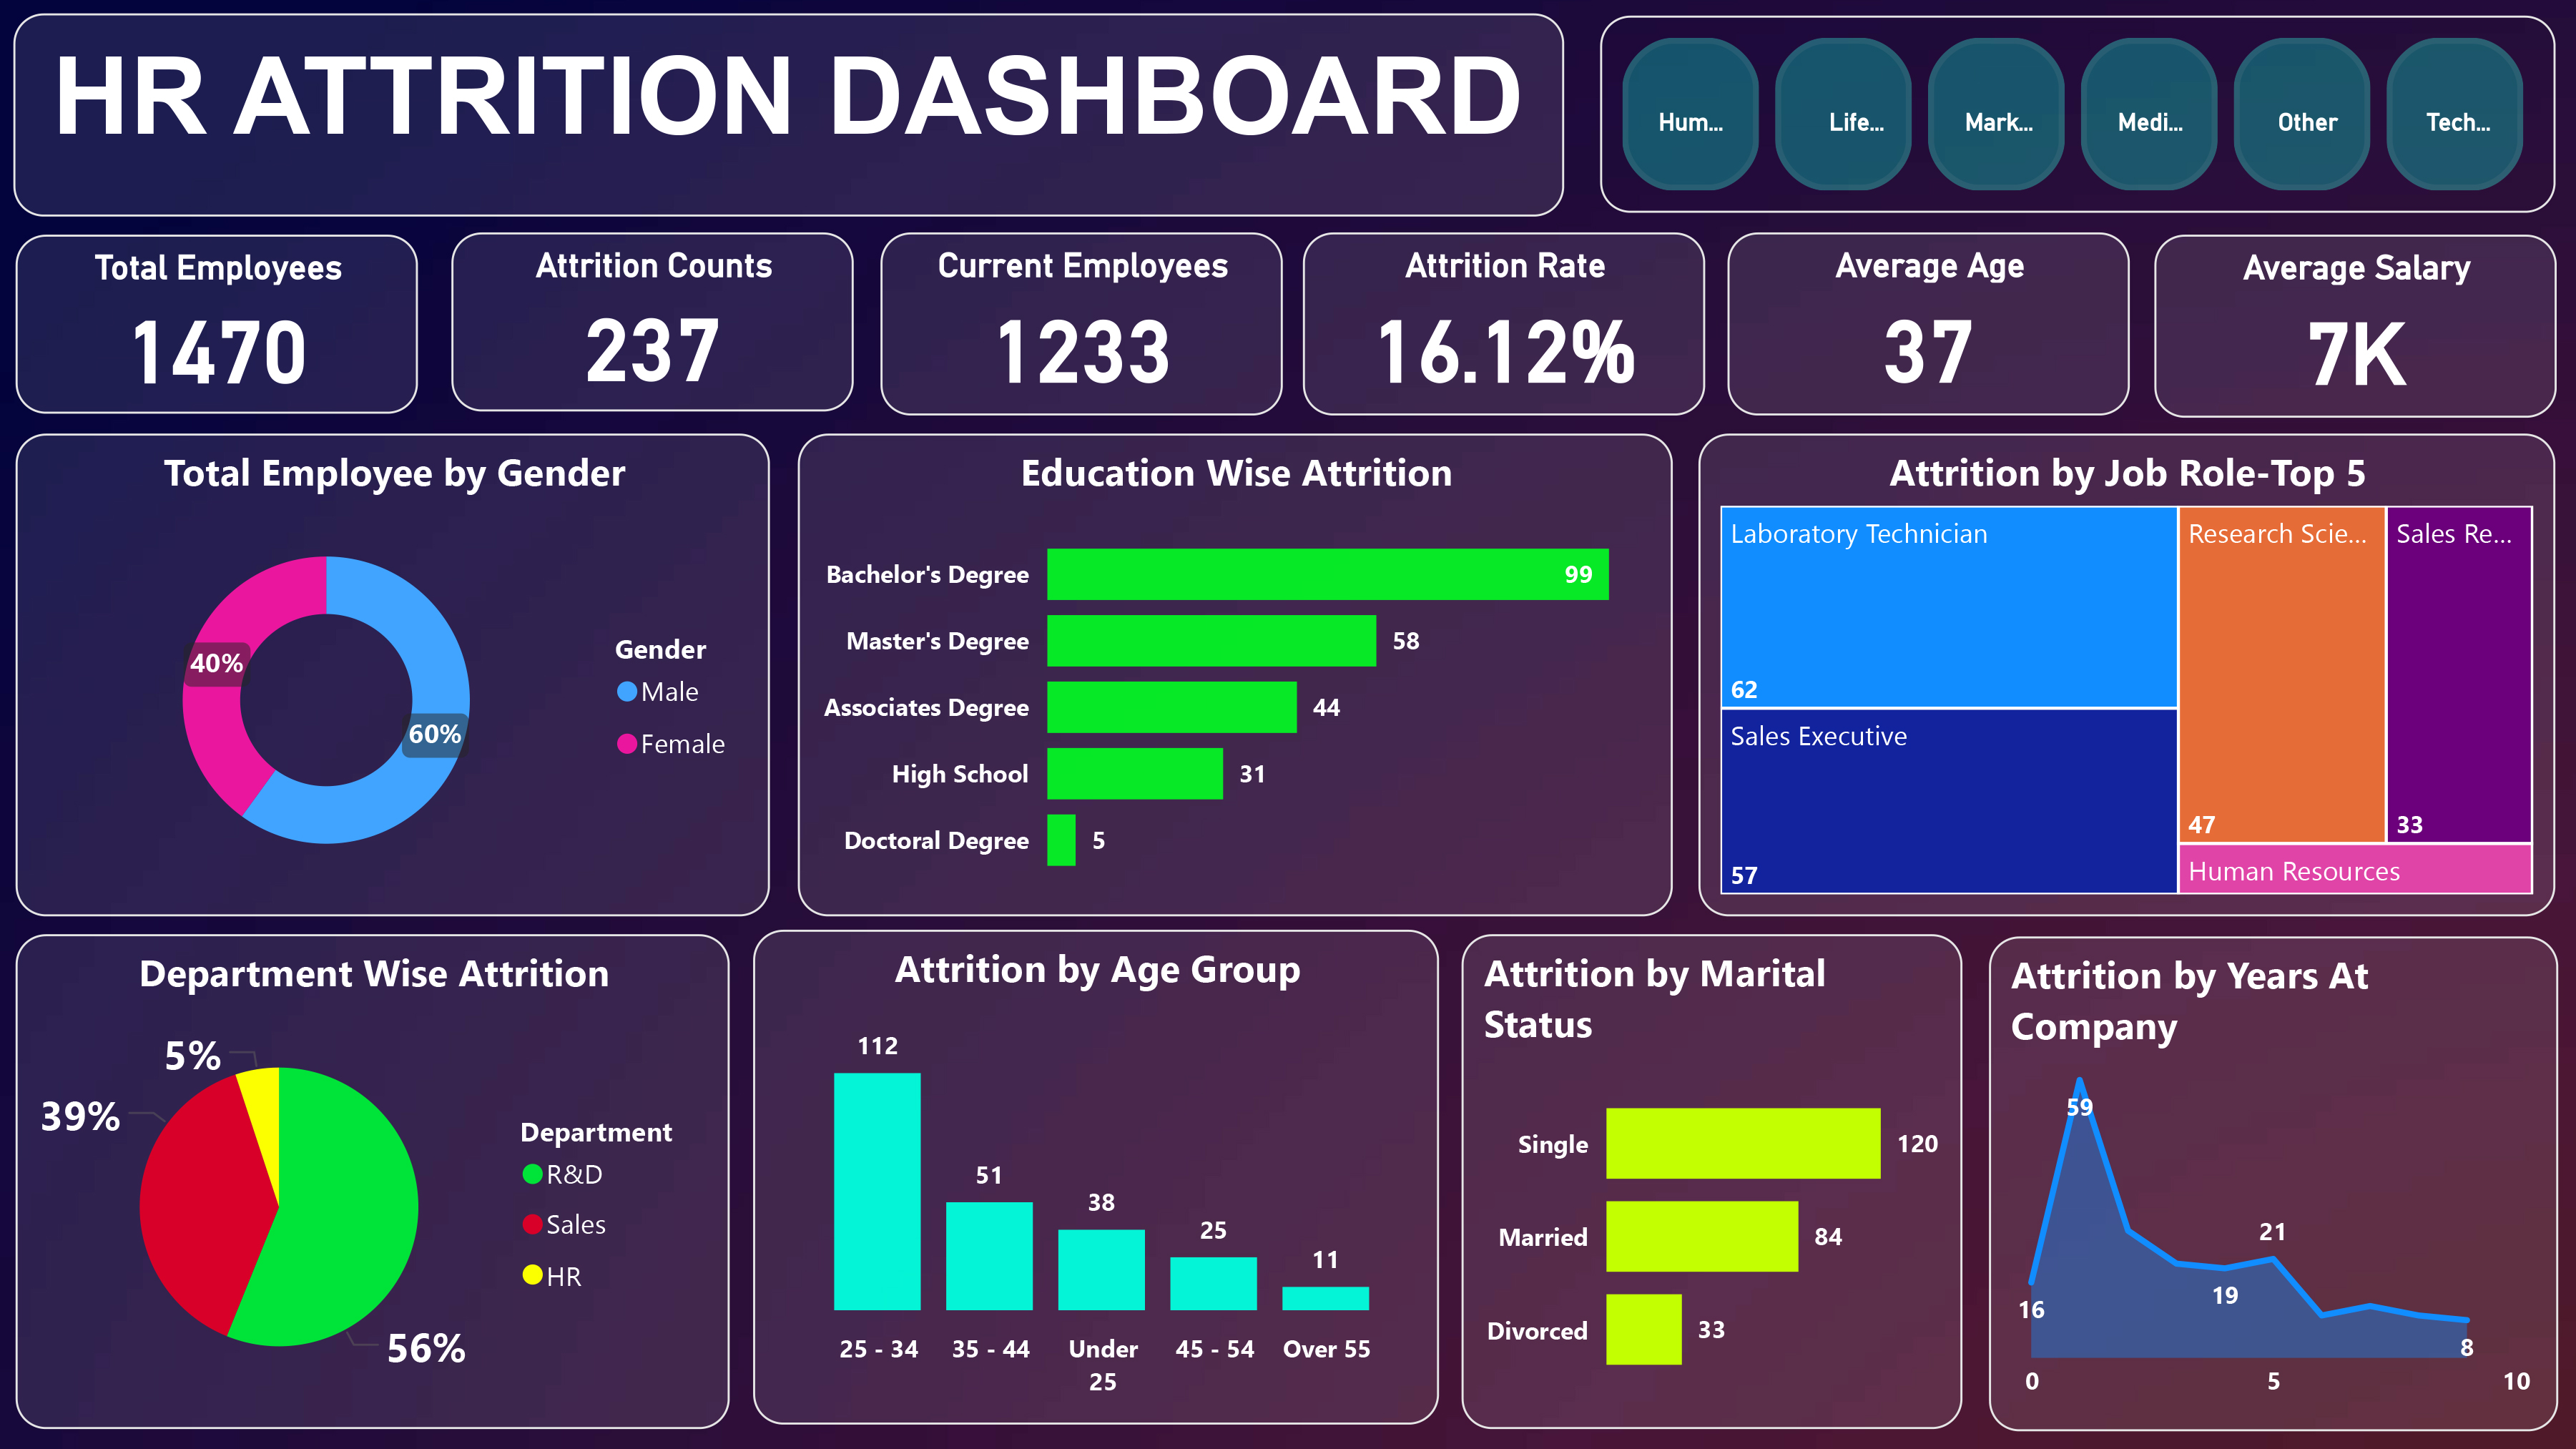

This screenshot's page, from the dashboard's own definition file:
{"tool":"powerbi","page":{"name":"HR ATTRITION DASHBOARD","canvas":[1280,720],"ordinal":0},"visuals":[{"type":"textbox","box":[6.4,6.4,770.6,100.5],"z":0},{"type":"donutChart","title":"Total Employee by Gender","fields":{"Category":["DataSet.Gender"],"Y":["Sum(DataSet.Employee Count)"]},"box":[7.7,215.1,374.9,239.7],"z":1000},{"type":"pieChart","title":"Department Wise Attrition","fields":{"Category":["DataSet.Department"],"Y":["Sum(DataSet.CF_attrition counts)"]},"box":[7.7,464,354.9,245.8],"z":2000},{"type":"clusteredBarChart","title":"Education Wise Attrition","fields":{"Category":["DataSet.Education"],"Y":["Sum(DataSet.CF_attrition counts)"]},"box":[396.4,215.1,434.8,239.7],"z":3000},{"type":"columnChart","title":"Attrition by Age Group","fields":{"Category":["DataSet.CF_age band"],"Y":["Sum(DataSet.CF_attrition counts)"]},"box":[374.9,462.4,341.1,245.8],"z":4000},{"type":"treemap","title":"Attrition by Job Role-Top 5","fields":{"Values":["Sum(DataSet.CF_attrition counts)"],"Group":["DataSet.Job Role"]},"box":[845,215.1,425.6,239.7],"z":5000},{"type":"barChart","title":"Attrition by Marital Status","fields":{"Y":["Sum(DataSet.CF_attrition counts)"],"Category":["DataSet.Marital Status"]},"box":[726.7,464,248.9,245.8],"z":6000},{"type":"card","title":"Total Employees","fields":{"Values":["CountNonNull(DataSet.Employee Count)"]},"box":[7.7,116.8,199.7,89.1],"z":7000},{"type":"card","title":"Attrition Counts","fields":{"Values":["Sum(DataSet.CF_attrition counts)"]},"box":[224.3,115.2,199.7,89.1],"z":8000},{"type":"card","title":"Current Employees","fields":{"Values":["Sum(DataSet.CF_current Employee)"]},"box":[437.8,115.2,199.7,90.6],"z":9000},{"type":"card","title":"Attrition Rate","fields":{"Values":["DataSet.Attrition Rate"]},"box":[648.3,115.2,199.7,90.6],"z":10000},{"type":"card","title":"Average Age","fields":{"Values":["Avg(DataSet.Age)"]},"box":[858.8,115.2,199.7,90.6],"z":11000},{"type":"card","title":"Average Salary","fields":{"Values":["Avg(DataSet.Monthly Income)"]},"box":[1070.8,116.8,199.7,90.6],"z":12000},{"type":"advancedSlicerVisual","fields":{"Values":["DataSet.Education Field"]},"box":[795.8,7.7,474.7,98.3],"z":13000},{"type":"areaChart","title":"Attrition by Years At Company","fields":{"Category":["DataSet.Years At Company"],"Y":["Sum(DataSet.CF_attrition counts)"]},"box":[989.4,465.5,282.7,245.8],"z":14000}]}

Visuals, with their boxes in screenshot pixels (x1, y1, x2, y2), scaled from the page's 1280x720 canvas onto the 2576x1449 screenshot:
textbox: pyautogui.locateOnScreen(13, 13, 1564, 215)
"Total Employee by Gender" donutChart: pyautogui.locateOnScreen(16, 433, 770, 915)
"Department Wise Attrition" pieChart: pyautogui.locateOnScreen(16, 934, 729, 1428)
"Education Wise Attrition" clusteredBarChart: pyautogui.locateOnScreen(797, 433, 1673, 915)
"Attrition by Age Group" columnChart: pyautogui.locateOnScreen(754, 930, 1441, 1425)
"Attrition by Job Role-Top 5" treemap: pyautogui.locateOnScreen(1701, 433, 2557, 915)
"Attrition by Marital Status" barChart: pyautogui.locateOnScreen(1462, 934, 1963, 1428)
"Total Employees" card: pyautogui.locateOnScreen(16, 235, 418, 414)
"Attrition Counts" card: pyautogui.locateOnScreen(451, 232, 853, 411)
"Current Employees" card: pyautogui.locateOnScreen(881, 232, 1283, 414)
"Attrition Rate" card: pyautogui.locateOnScreen(1304, 232, 1706, 414)
"Average Age" card: pyautogui.locateOnScreen(1729, 232, 2130, 414)
"Average Salary" card: pyautogui.locateOnScreen(2155, 235, 2557, 418)
advancedSlicerVisual - DataSet.Education Field: pyautogui.locateOnScreen(1601, 16, 2557, 213)
"Attrition by Years At Company" areaChart: pyautogui.locateOnScreen(1991, 937, 2560, 1432)
